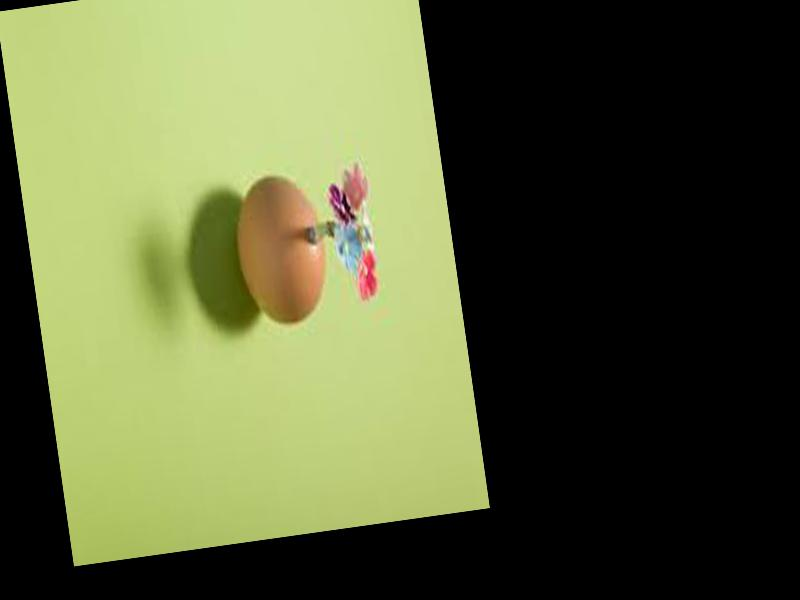Eggs: (227, 171, 333, 328)
